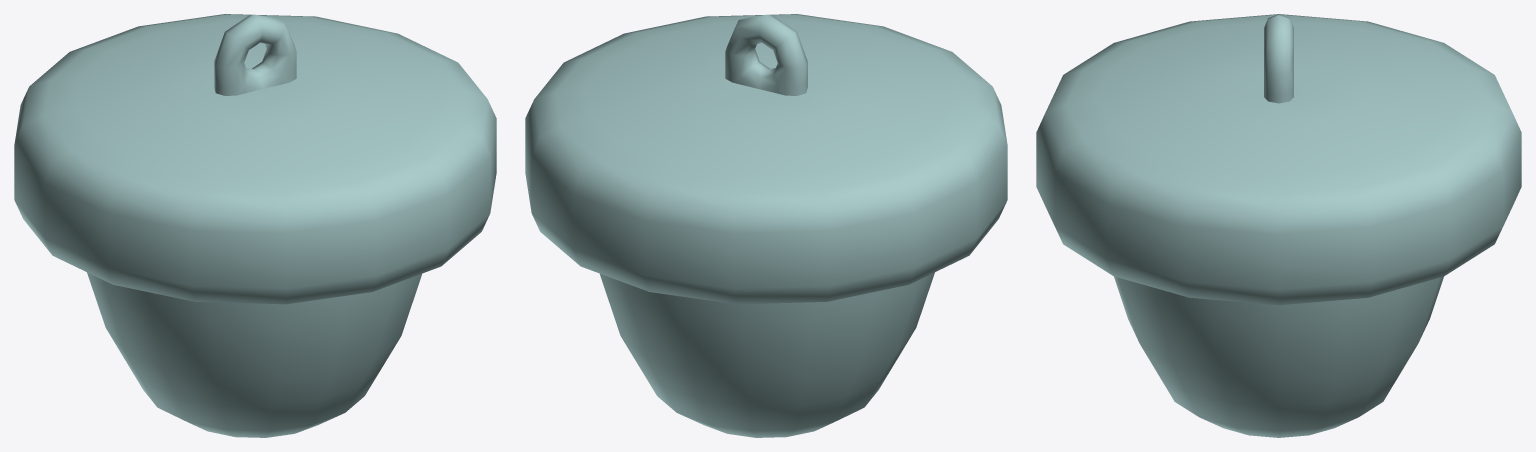
Rendered from LastLuna_Model_Station_Glass_Crucible.fbx.
3 views of the same model, side by side, from view 1: azimuth 30°, elevation 25°; view 2: azimuth 150°, elevation 25°; view 3: azimuth 270°, elevation 25° (orthographic).
Visible parts, largest first — view 1: Crucible_Lid001, Crucible001; view 2: Crucible_Lid001, Crucible001; view 3: Crucible_Lid001, Crucible001.
Boxes of the visible parts, <box> form: Crucible_Lid001: <box>14,14,496,304</box>; Crucible001: <box>87,272,421,437</box>; Crucible_Lid001: <box>525,14,1007,304</box>; Crucible001: <box>600,272,934,437</box>; Crucible_Lid001: <box>1036,14,1521,305</box>; Crucible001: <box>1114,276,1443,437</box>.
Size of the model in its own units: 80 by 71.98 by 80.
